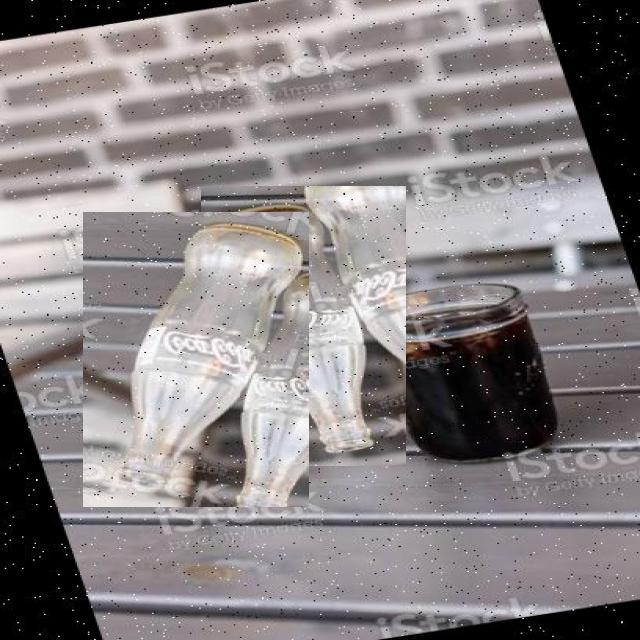coca-cola: (83, 212, 309, 507), (201, 186, 406, 466)
